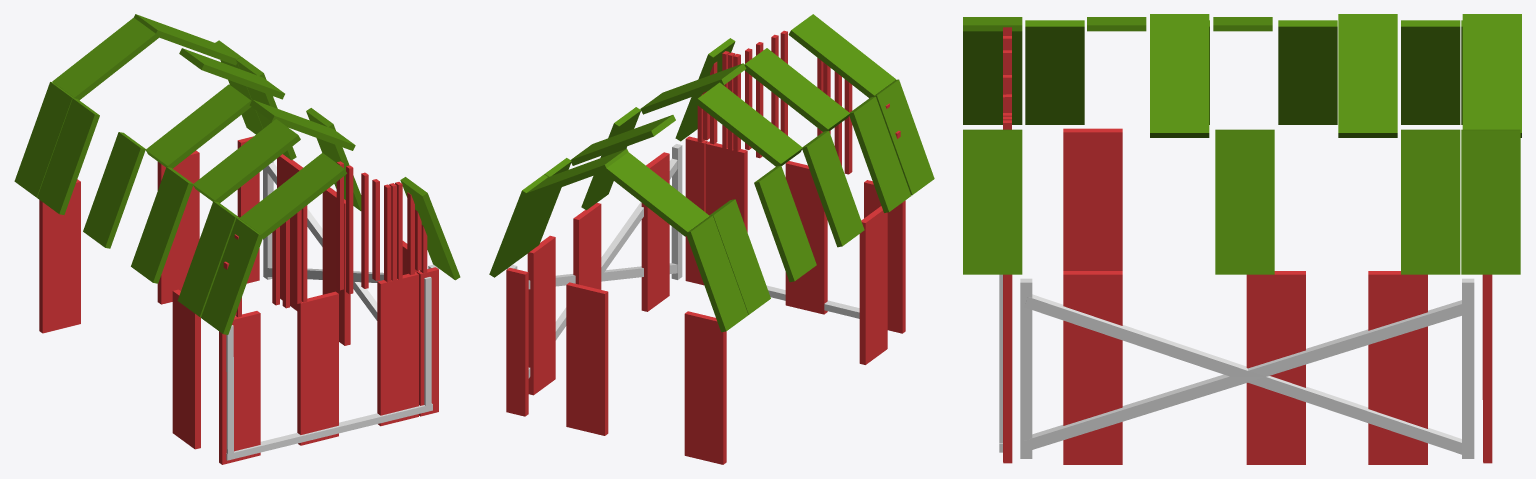
File: AmbarLow.fbx
3 renders of one model, left to right at view 1: azimuth 30°, elevation 25°; view 2: azimuth 150°, elevation 25°; view 3: azimuth 270°, elevation 25°, orthographic. The views are drawn at different scales.
Parts seen in each view (by area): view 1: Cube.054, Cube.056, Cube.058, Cube.052, Cube.009, Cube.045, Cube.049, Cube.041, Cube.021, Cube.025, Cube.017, Cube.035 (+33 smaller); view 2: Cube.061, Cube.058, Cube.009, Cube.006, Cube.054, Cube.041, Cube.025, Cube.045, Cube.037, Cube.021, Cube.051, Cube.017 (+23 smaller); view 3: Cube.004, Cube.001, Cube.006, Cube.042, Cube.050, Cube.034, Cube.048, Cube.009, Cube.022, Cube.028, Cube.032, Cube.074 (+13 smaller).
Boxes of the visible parts, left/top/right/bottom form: Cube.054: left=297, top=291, right=338, bottom=445; Cube.056: left=377, top=272, right=418, bottom=426; Cube.058: left=39, top=179, right=80, bottom=333; Cube.052: left=219, top=311, right=260, bottom=464; Cube.009: left=172, top=289, right=200, bottom=449; Cube.045: left=83, top=132, right=145, bottom=248; Cube.049: left=37, top=98, right=99, bottom=214; Cube.041: left=131, top=167, right=193, bottom=283; Cube.021: left=193, top=119, right=300, bottom=202; Cube.025: left=146, top=84, right=251, bottom=168; Cube.017: left=239, top=153, right=346, bottom=238; Cube.035: left=201, top=218, right=262, bottom=334; Cube.061: left=566, top=282, right=608, bottom=435; Cube.058: left=684, top=311, right=726, bottom=464; Cube.009: left=859, top=206, right=887, bottom=364; Cube.006: left=527, top=235, right=555, bottom=395; Cube.054: left=785, top=161, right=827, bottom=314; Cube.041: left=802, top=130, right=864, bottom=247; Cube.025: left=695, top=82, right=802, bottom=166; Cube.045: left=754, top=165, right=816, bottom=282; Cube.037: left=849, top=96, right=911, bottom=212; Cube.021: left=744, top=48, right=849, bottom=131; Cube.051: left=686, top=215, right=748, bottom=332; Cube.017: left=788, top=14, right=896, bottom=98; Cube.004: left=1246, top=271, right=1305, bottom=464; Cube.001: left=1063, top=271, right=1122, bottom=464; Cube.006: left=1368, top=271, right=1427, bottom=464; Cube.042: left=1215, top=129, right=1274, bottom=274; Cube.050: left=1461, top=129, right=1520, bottom=274; Cube.034: left=963, top=129, right=1022, bottom=274; Cube.048: left=1401, top=129, right=1460, bottom=274; Cube.009: left=1063, top=128, right=1122, bottom=270; Cube.022: left=1150, top=14, right=1209, bottom=137; Cube.028: left=1338, top=14, right=1397, bottom=137; Cube.032: left=1462, top=14, right=1521, bottom=137; Cube.074: left=1024, top=294, right=1461, bottom=454.
Size of the model in its own units: 1007 by 1145 by 1535.
